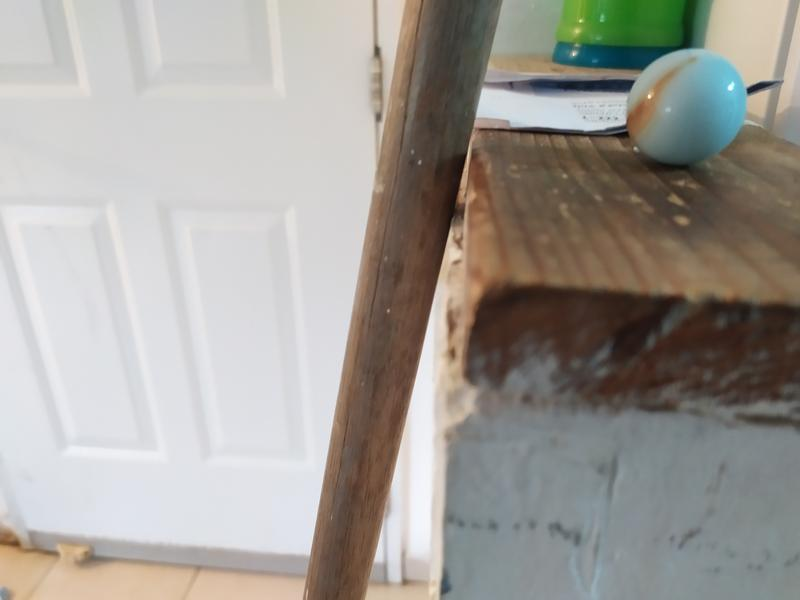Warning: (621, 45, 751, 168)
